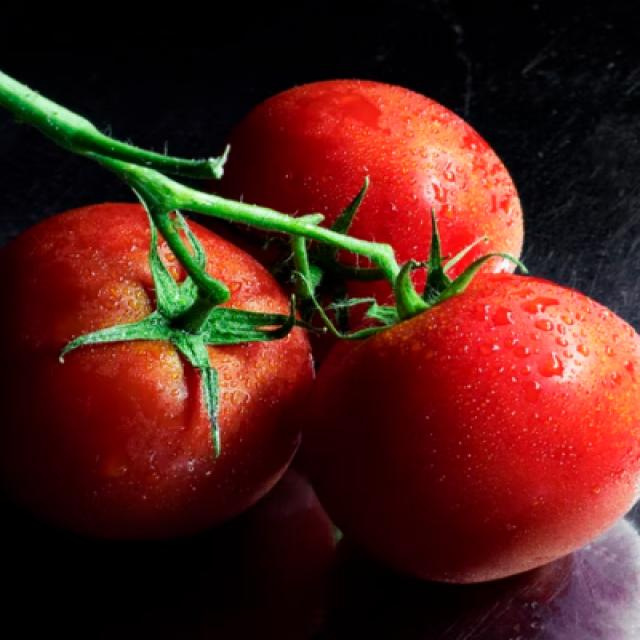Tomato: (14, 201, 315, 534)
